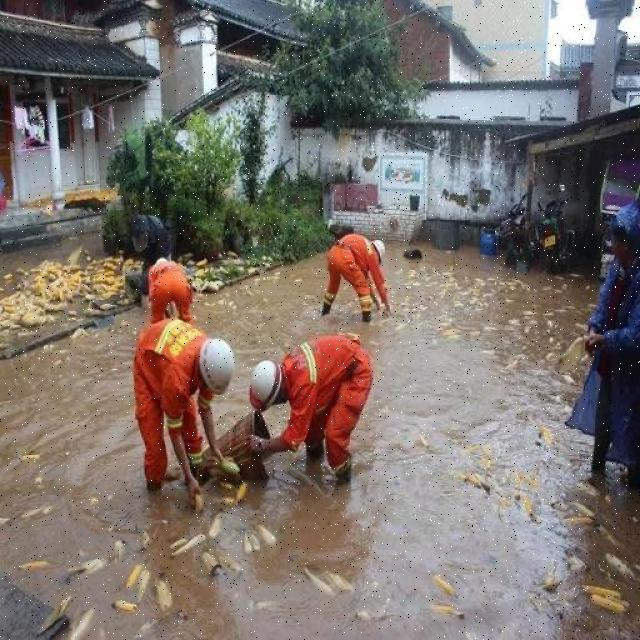rescuer: (238, 315, 384, 486), (101, 309, 232, 495), (120, 232, 221, 323), (315, 217, 400, 325)
